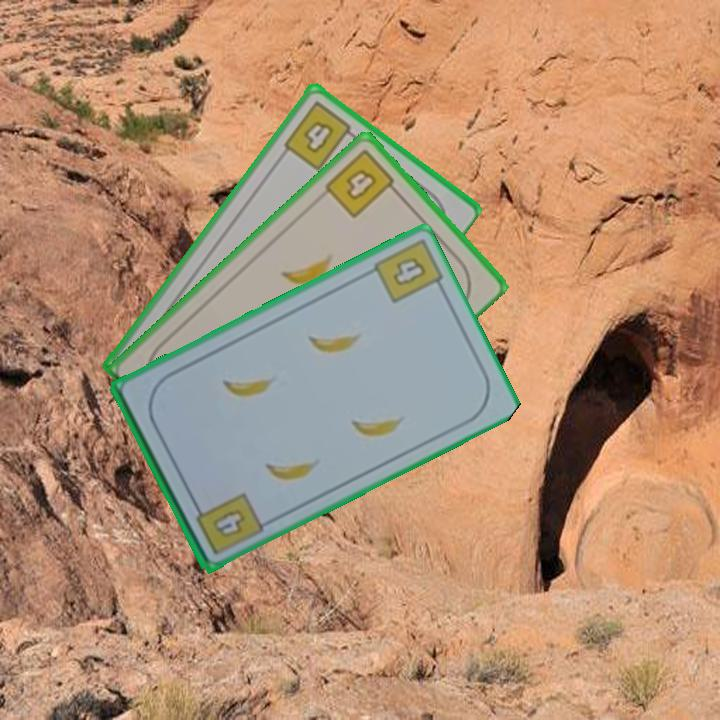4b: (280, 97, 361, 174), (321, 145, 403, 221), (189, 488, 263, 558), (389, 253, 430, 289)
